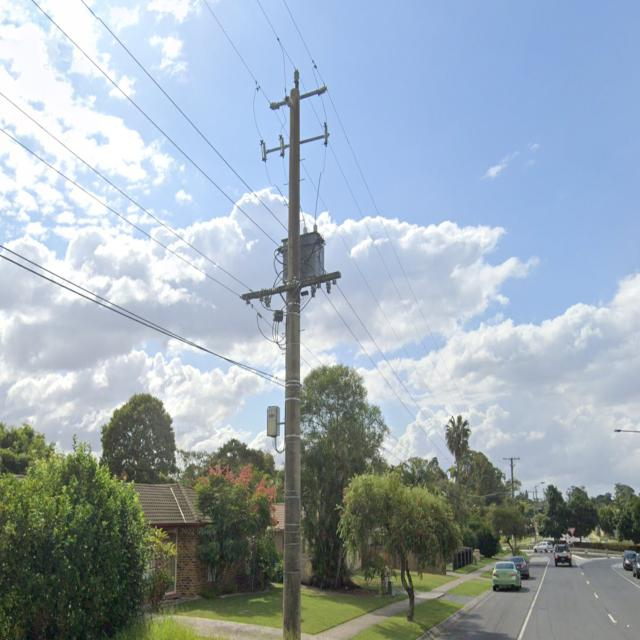HV-transmission: (259, 70, 330, 162)
LV link: (260, 288, 274, 311)
LV link box: (273, 308, 284, 342)
crossarm: (242, 271, 342, 301), (266, 132, 330, 154), (278, 90, 318, 108), (504, 456, 520, 461)
streetlight: (514, 480, 545, 506), (614, 429, 640, 435)
timber-pole: (281, 86, 303, 640), (510, 457, 517, 550)
transformer: (280, 228, 327, 286)
